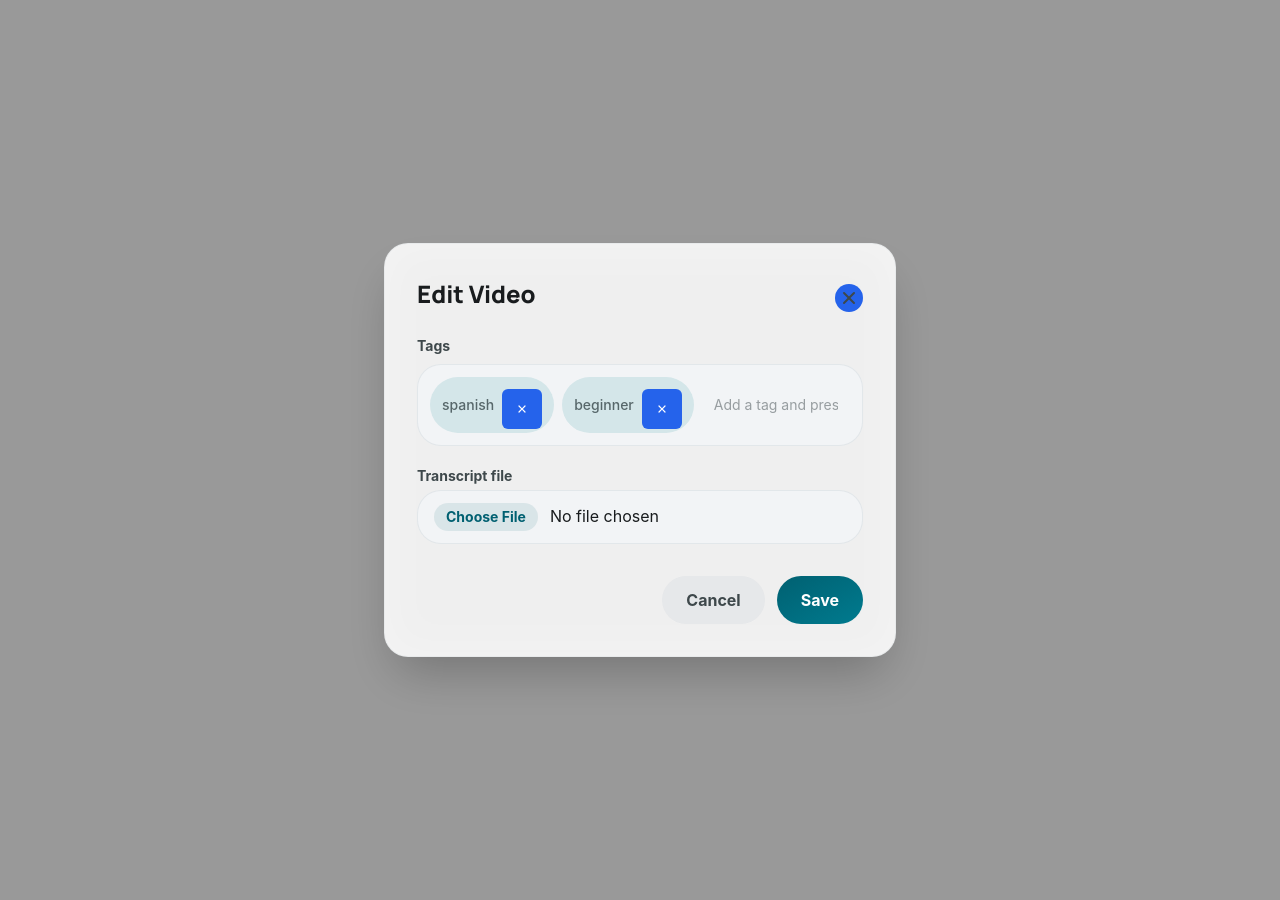
Test: EditVideoModal › adds a new tag when Enter is pressed
Type "advanced" into the field named "New tag" at (776, 405), box [702, 377, 850, 433]
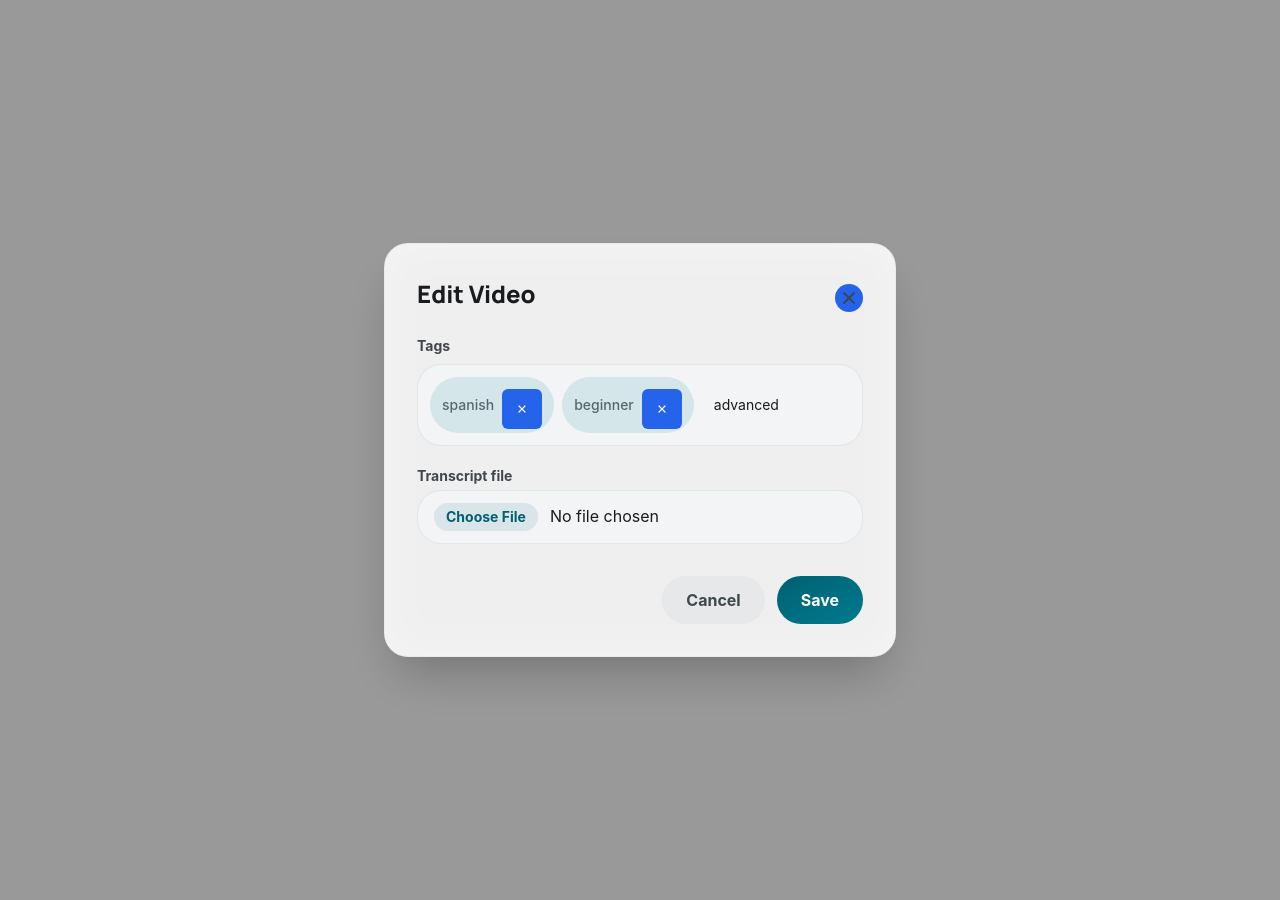
Press Enter in the field named "New tag", box [702, 377, 850, 433]
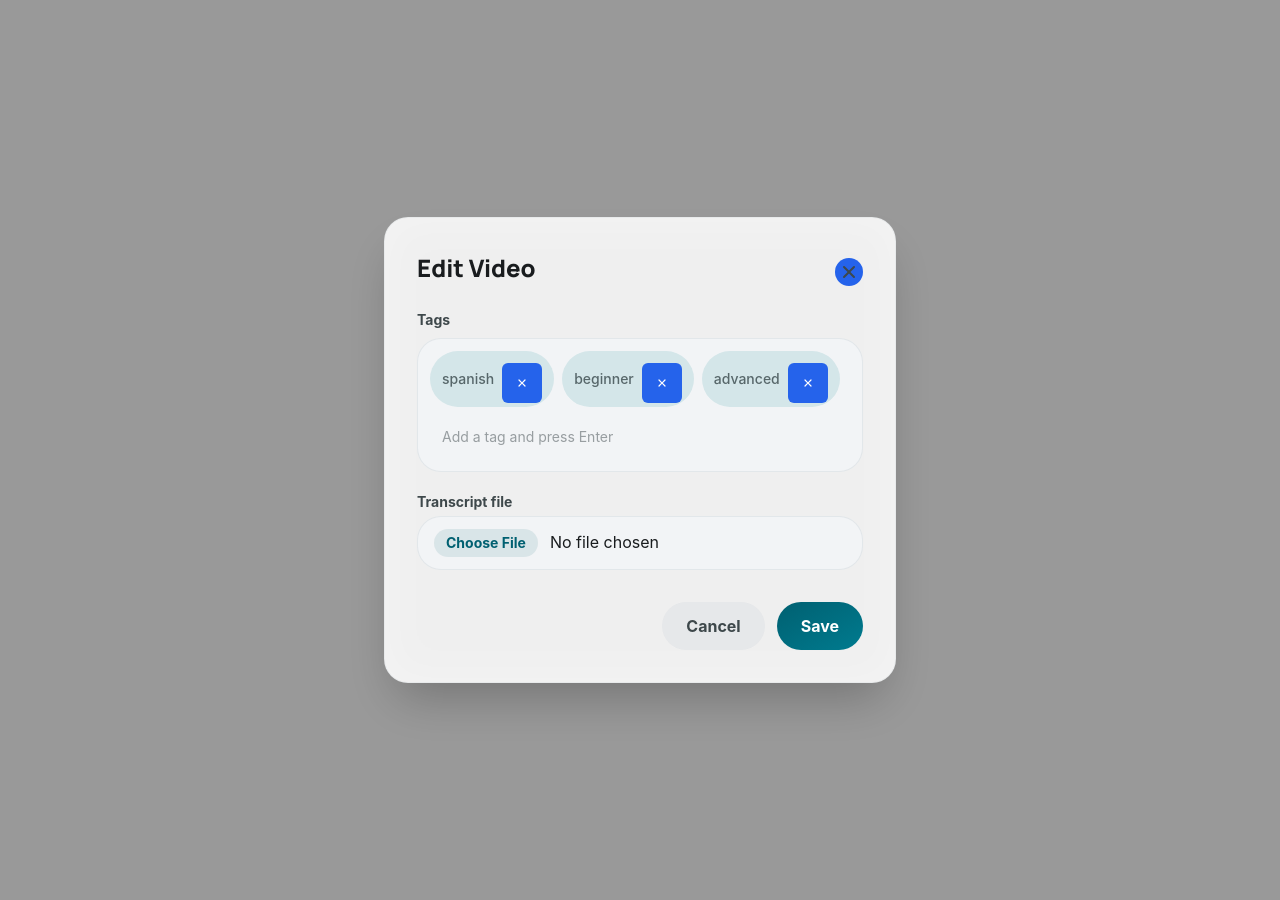
Expected: the text "advanced" is shown, [702, 351, 840, 407]
